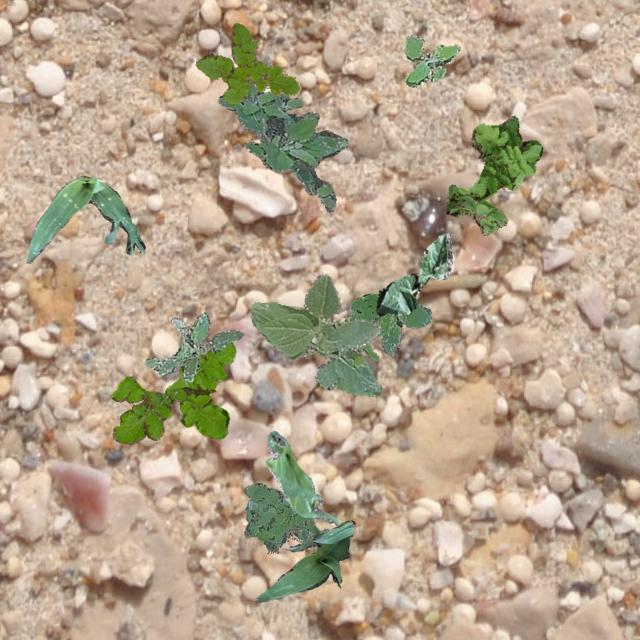crop: (250, 274, 380, 396), (25, 175, 144, 262), (255, 520, 354, 602), (264, 430, 338, 524), (376, 232, 452, 314)
weed: (218, 82, 346, 212), (110, 341, 234, 444), (444, 114, 542, 233), (194, 22, 298, 104), (144, 310, 242, 380), (348, 290, 429, 360), (242, 482, 318, 552), (404, 34, 458, 86)
